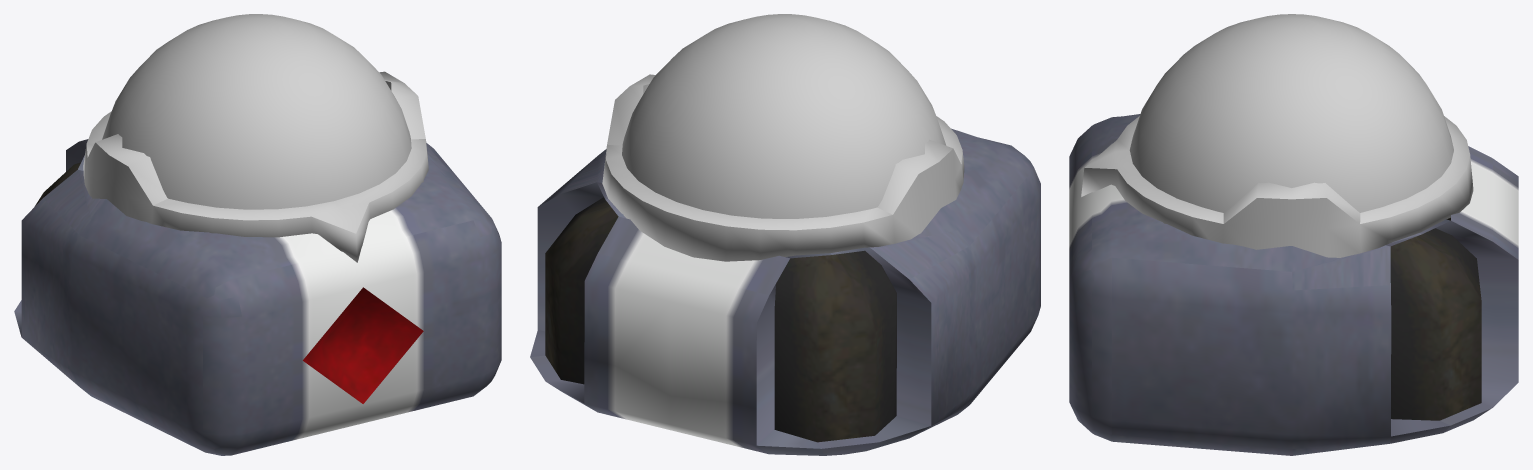
The model's file is cockpit_small.obj.
3 views of the same model, side by side, from view 1: azimuth 30°, elevation 25°; view 2: azimuth 150°, elevation 25°; view 3: azimuth 270°, elevation 25° (orthographic). The views are drawn at different scales.
Parts seen in each view (by area): view 1: Cube.008_Cube.017, Sphere, Sphere.001; view 2: Cube.008_Cube.017, Sphere, Sphere.001; view 3: Cube.008_Cube.017, Sphere, Sphere.001.
Part boxes in pixels (box(x1,y1,x2,y2)): Cube.008_Cube.017: box(14, 139, 501, 455); Sphere: box(102, 14, 411, 209); Sphere.001: box(83, 71, 428, 262); Cube.008_Cube.017: box(530, 128, 1040, 455); Sphere: box(622, 14, 946, 218); Sphere.001: box(602, 74, 964, 261); Cube.008_Cube.017: box(1069, 114, 1518, 455); Sphere: box(1129, 14, 1453, 212); Sphere.001: box(1081, 116, 1473, 257).
Size of the model in its own units: 1.01 by 1 by 0.9987.
